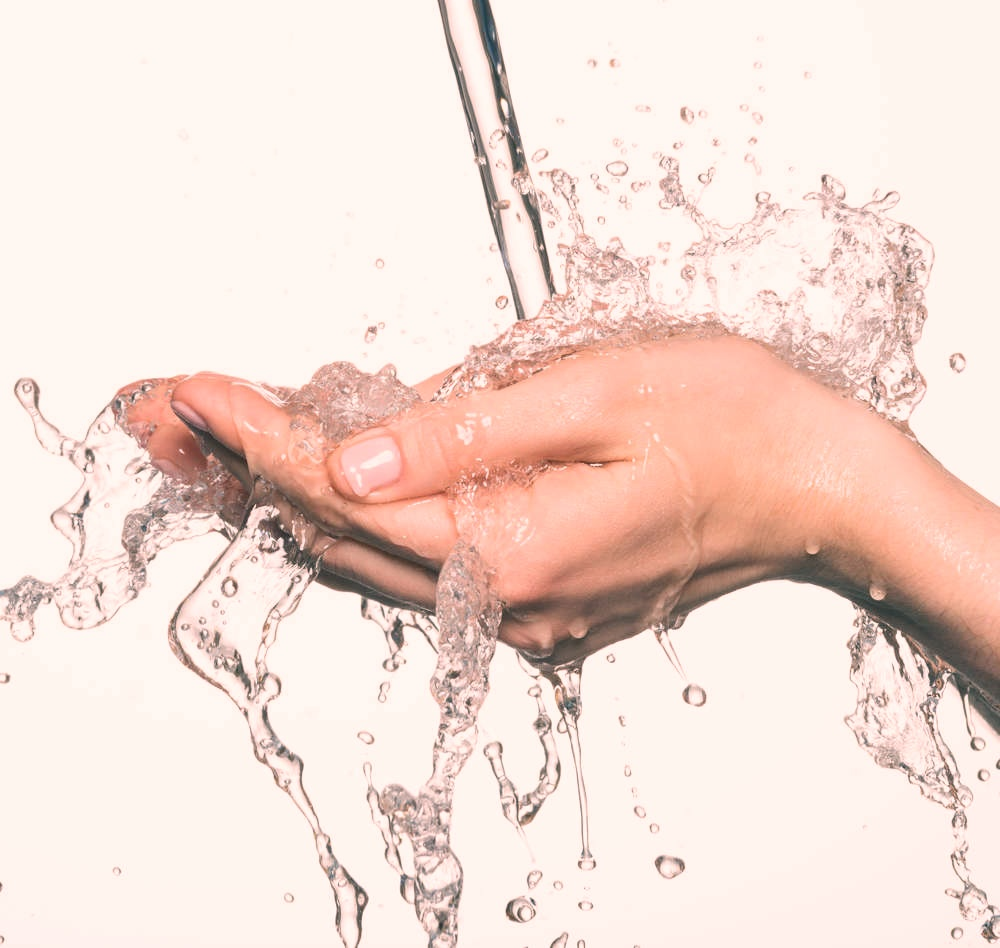washing hand: (41, 43, 969, 870)
